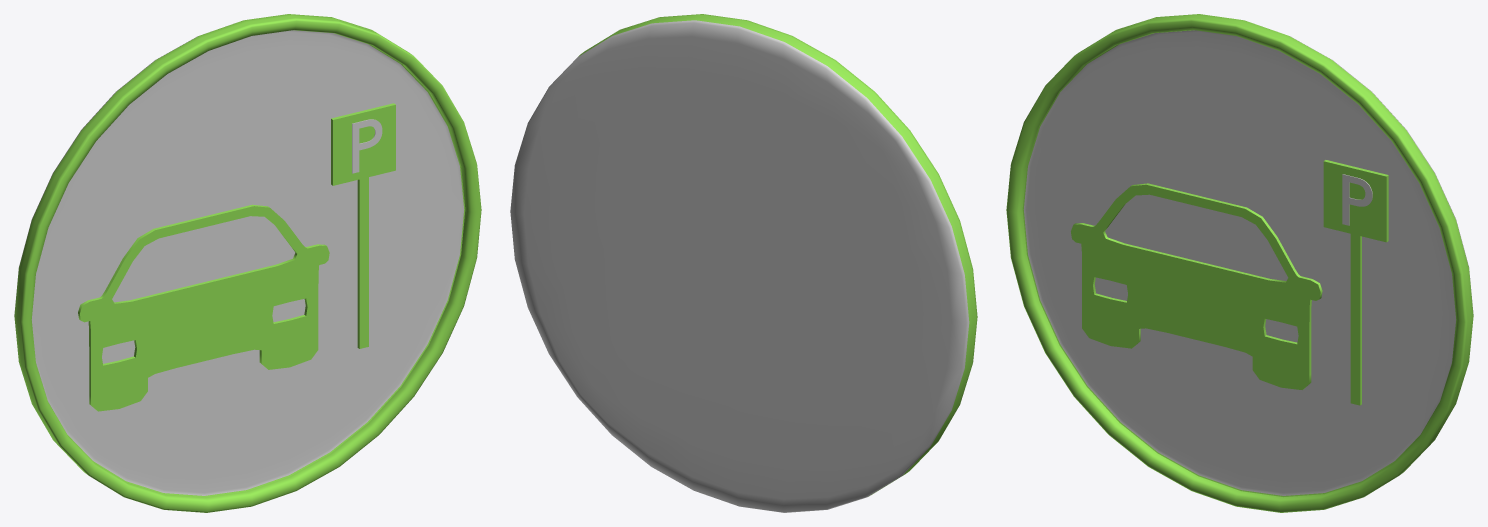
3 renders of one model, left to right at view 1: azimuth 30°, elevation 25°; view 2: azimuth 150°, elevation 25°; view 3: azimuth 330°, elevation 25°, orthographic.
Visible parts, largest first — view 1: car_parking_0; view 2: car_parking_0; view 3: car_parking_0.
Part boxes in pixels (x1,y1,x2,y2): car_parking_0: (14,14,481,512); car_parking_0: (510,14,977,512); car_parking_0: (1006,14,1473,512).
Bounding box in the file's own units: 2 × 2 × 0.0787.
